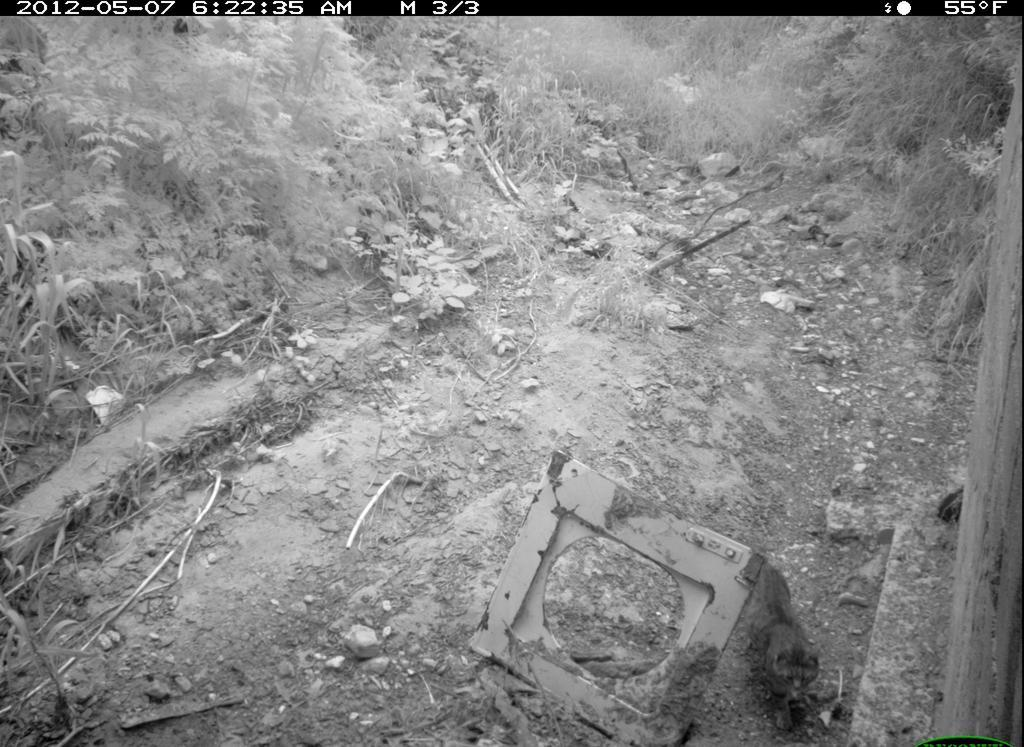cat: (742, 553, 827, 720)
